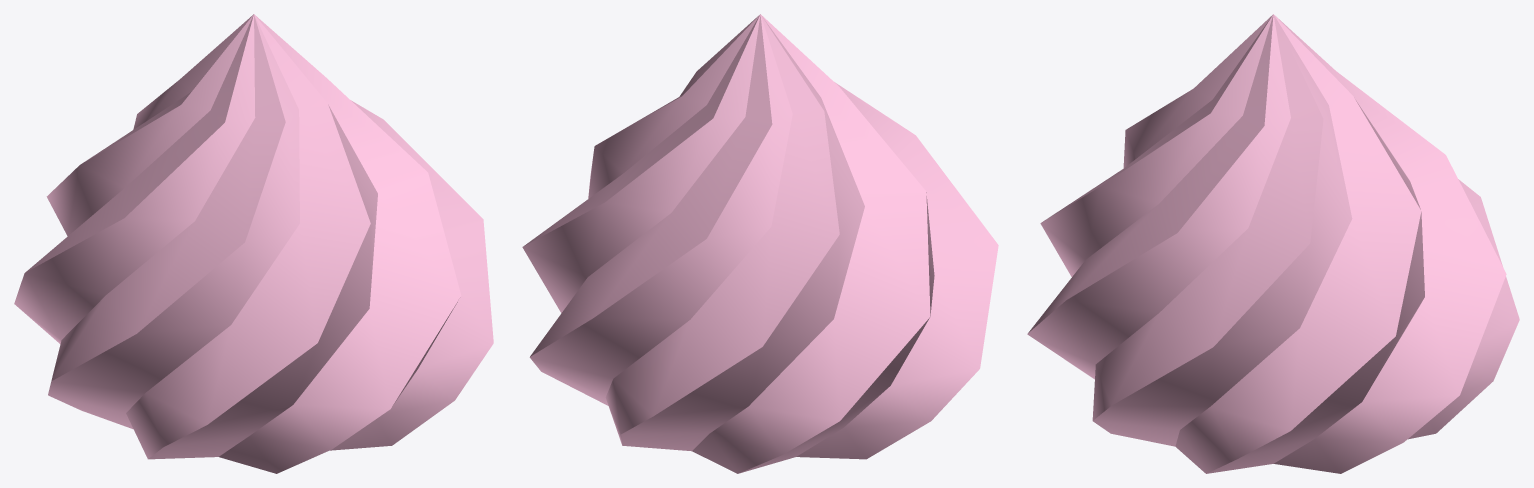
The model's file is CandylandMeringue_02.fbx.
3 renders of one model, left to right at view 1: azimuth 30°, elevation 25°; view 2: azimuth 150°, elevation 25°; view 3: azimuth 270°, elevation 25°, orthographic.
Visible parts, largest first — view 1: CandylandMeringue_02; view 2: CandylandMeringue_02; view 3: CandylandMeringue_02.
Boxes of the visible parts, x1,y1,x2,y2 form: CandylandMeringue_02: [14, 14, 493, 473]; CandylandMeringue_02: [522, 14, 998, 473]; CandylandMeringue_02: [1027, 14, 1519, 473].
Bounding box in the file's own units: 0.4944 × 0.4332 × 0.4944.
